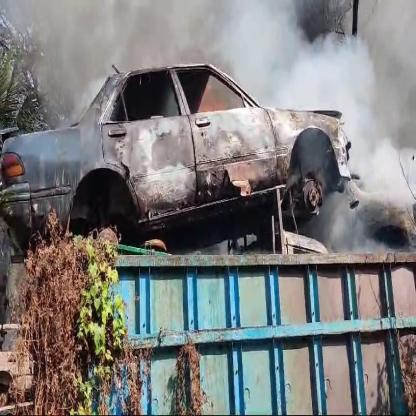Smoke: (0, 0, 416, 251)
